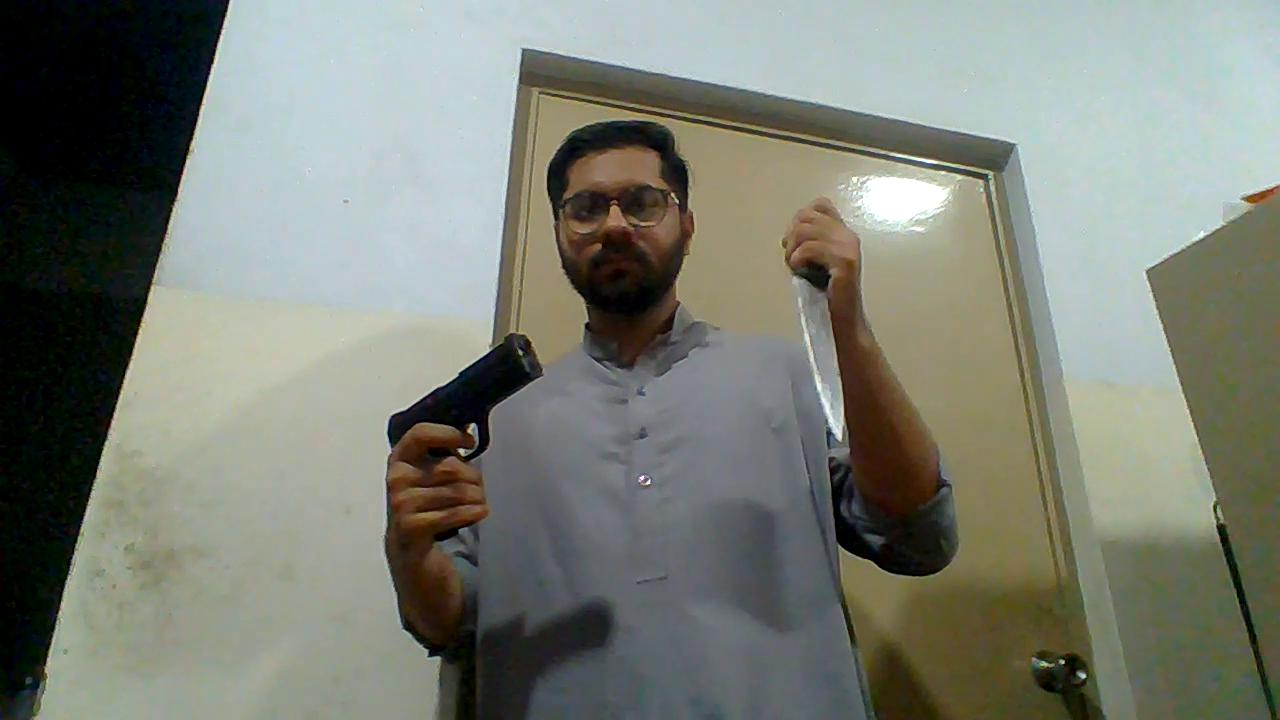criminal: (381, 117, 960, 720)
weapon: (385, 327, 547, 466), (787, 257, 848, 441)
